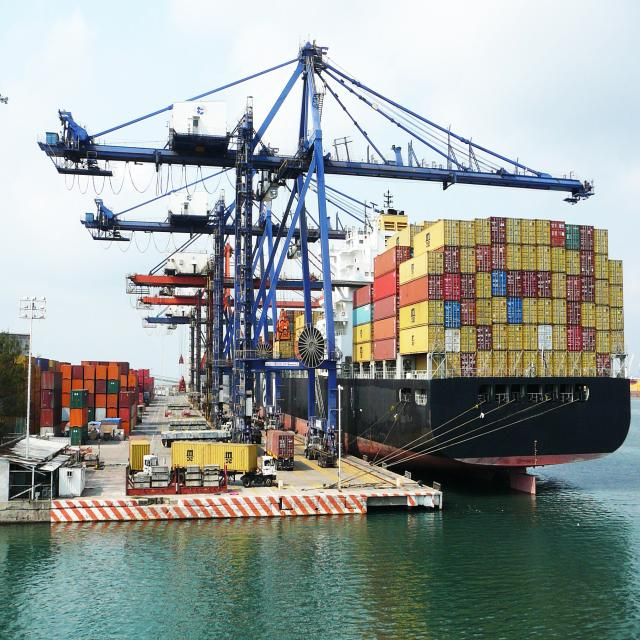cargoship: (284, 184, 630, 481)
